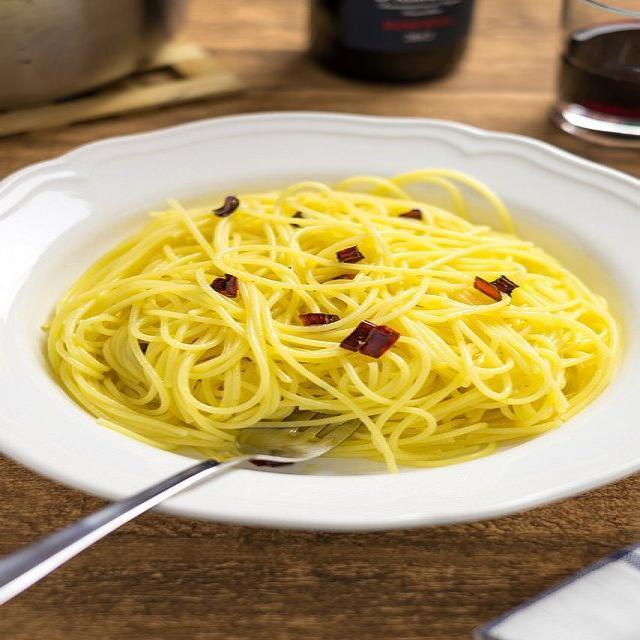Oil pasta: (36, 146, 640, 507)
